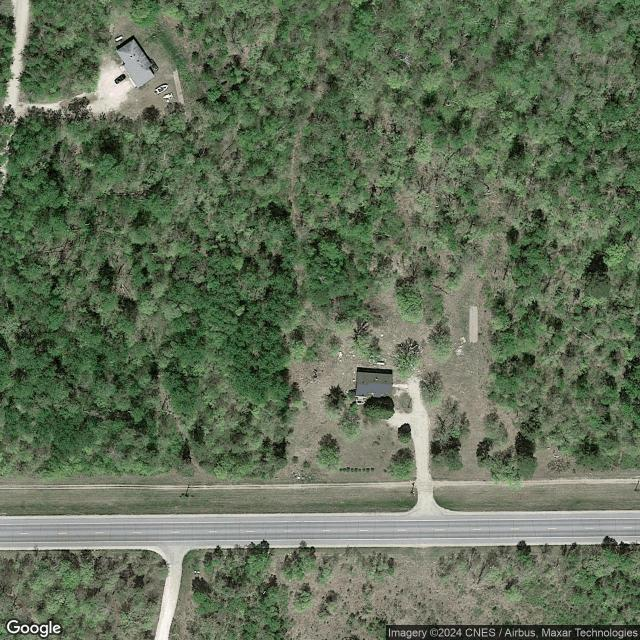Propane: (113, 34, 124, 43), (376, 361, 386, 366)
